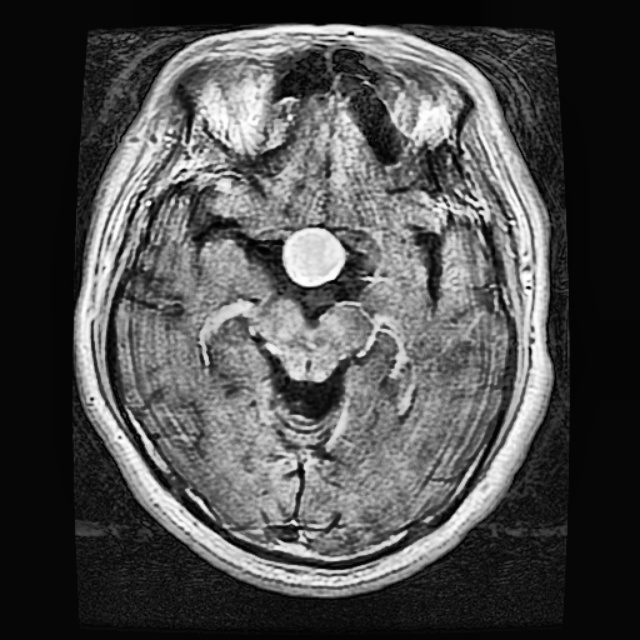Pituitary: (282, 227, 345, 287)
